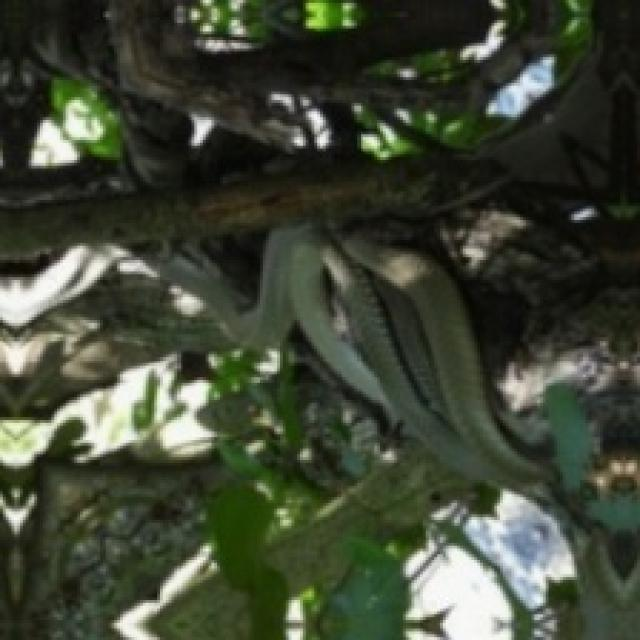king cobra: (100, 224, 542, 484)
